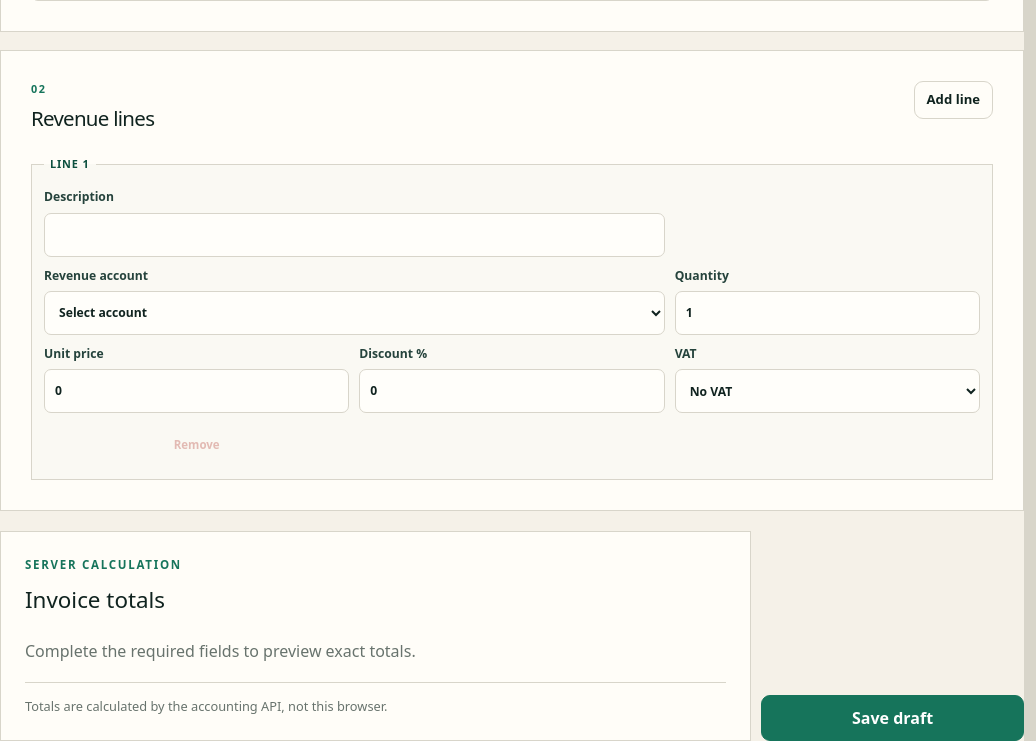
Scenario: Day 3 invoice editor › validates required fields before saving
(page scrolled)
Click the button "Save draft": (893, 718) [761,695,1024,740]
(page scrolled)
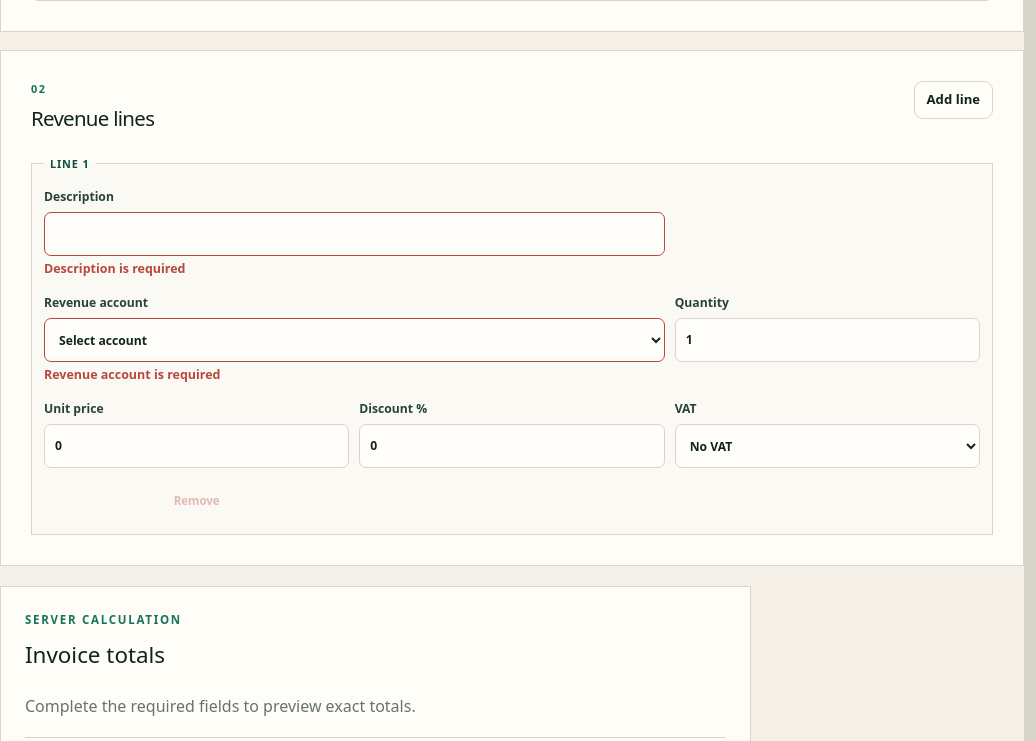
expect the text "Revenue account is required" is shown: met, box [44,366,220,383]
expect the text "Description is required" is shown: met, box [44,260,186,277]
